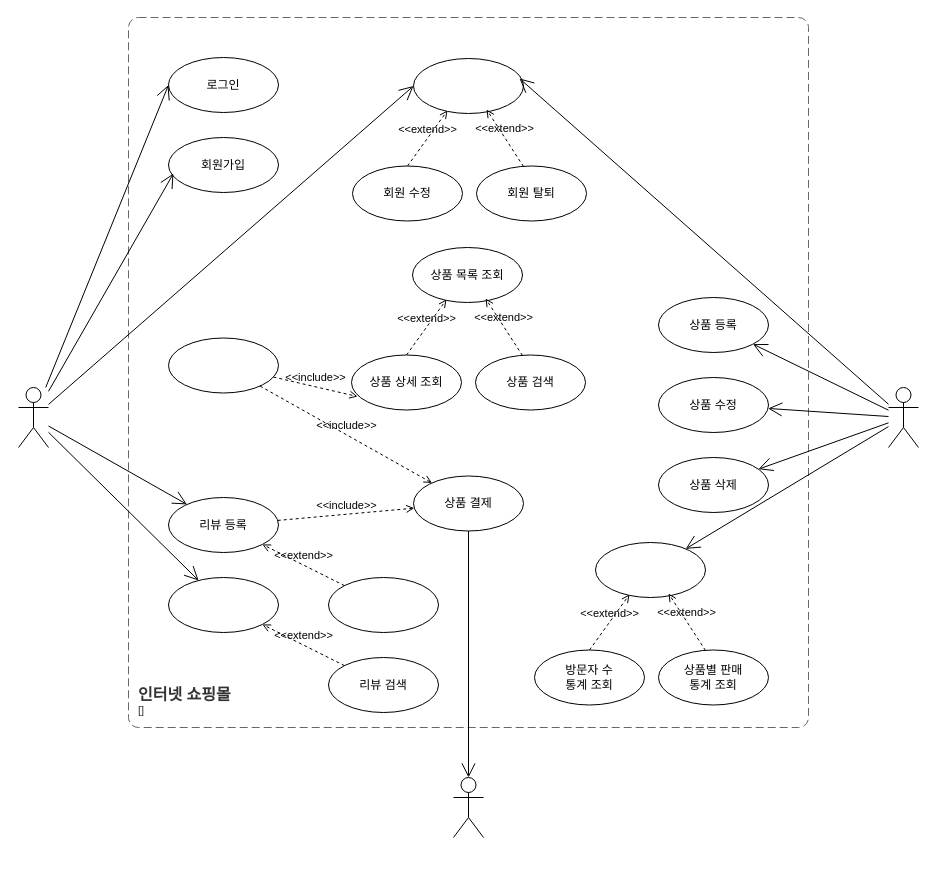
Image size: 937x876. Some labels were removed from this diagram. Each missing label, with the centre of its shape:
SMS 시스템: the point at 468,807
관리자: the point at 903,417
리뷰 조회: the point at 223,604
사용자: the point at 33,417
사진 등록: the point at 383,604
상품 구매: the point at 223,365
통계 조회: the point at 650,570
회원 정보 조회: the point at 468,86
